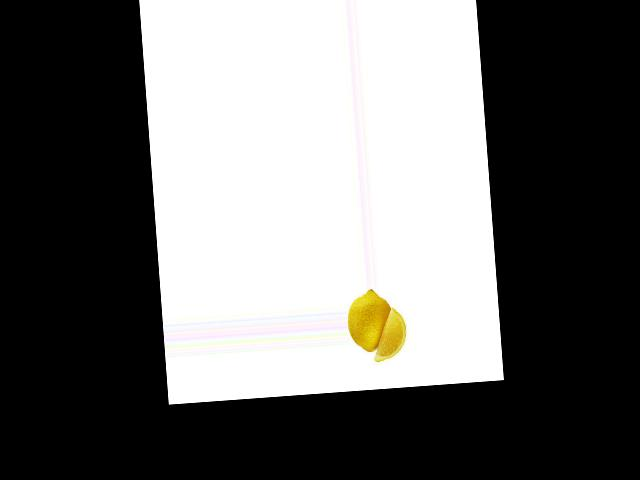lemon: (346, 286, 395, 357)
